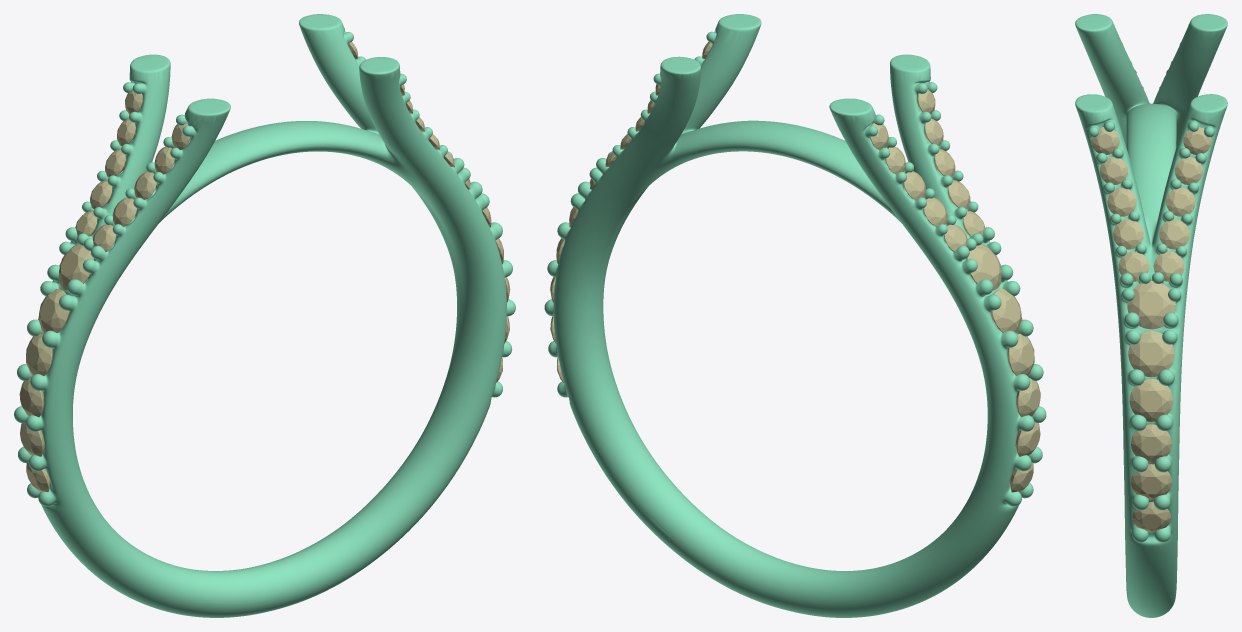
The picture shows the model from 3 angles, left to right: view 1: azimuth 30°, elevation 25°; view 2: azimuth 150°, elevation 25°; view 3: azimuth 270°, elevation 25°; orthographic projection. The views are drawn at different scales.
Parts seen in each view (by area): view 1: Metal02, Diamond_Gem.027, Diamond_Gem.024, Diamond_Gem.023, Diamond_Gem.021; view 2: Metal02, Diamond_Gem.027, Diamond_Gem.024, Diamond_Gem.023, Diamond_Gem.021; view 3: Metal02, Diamond_Gem.004, Diamond_Gem.007, Diamond_Gem.008, Diamond_Gem.010, Diamond_Gem.009, Diamond_Gem.006, Diamond_Gem.005, Diamond_Gem.011, Diamond_Gem.002, Diamond_Gem.013, Diamond_Gem.012 (+5 smaller).
Boxes of the visible parts, x1,y1,x2,y2 form: Metal02: (14, 14, 515, 617); Diamond_Gem.027: (59, 244, 93, 290); Diamond_Gem.024: (38, 289, 69, 333); Diamond_Gem.023: (26, 333, 52, 375); Diamond_Gem.021: (19, 378, 43, 417); Metal02: (544, 14, 1046, 617); Diamond_Gem.027: (966, 244, 1001, 290); Diamond_Gem.024: (990, 289, 1021, 332); Diamond_Gem.023: (1007, 333, 1034, 375); Diamond_Gem.021: (1016, 378, 1040, 417); Metal02: (1075, 14, 1227, 617); Diamond_Gem.004: (1127, 281, 1175, 329); Diamond_Gem.007: (1128, 331, 1174, 377); Diamond_Gem.008: (1129, 378, 1173, 421); Diamond_Gem.010: (1131, 424, 1171, 462); Diamond_Gem.009: (1131, 464, 1171, 499); Diamond_Gem.006: (1132, 502, 1170, 532); Diamond_Gem.005: (1113, 219, 1143, 249); Diamond_Gem.011: (1159, 219, 1189, 249); Diamond_Gem.002: (1107, 187, 1136, 216); Diamond_Gem.013: (1166, 187, 1195, 216); Diamond_Gem.012: (1153, 251, 1184, 281).
Bounding box in the file's own units: 21.39 × 22.87 × 5.96.
